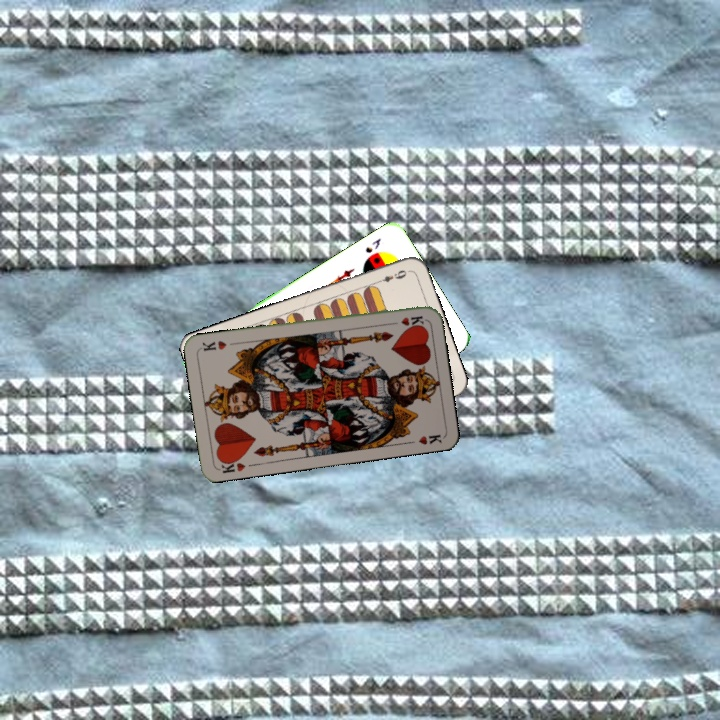E9: (372, 266, 409, 286)
HK: (216, 454, 248, 476), (386, 312, 427, 328)
SK: (361, 234, 384, 256)
